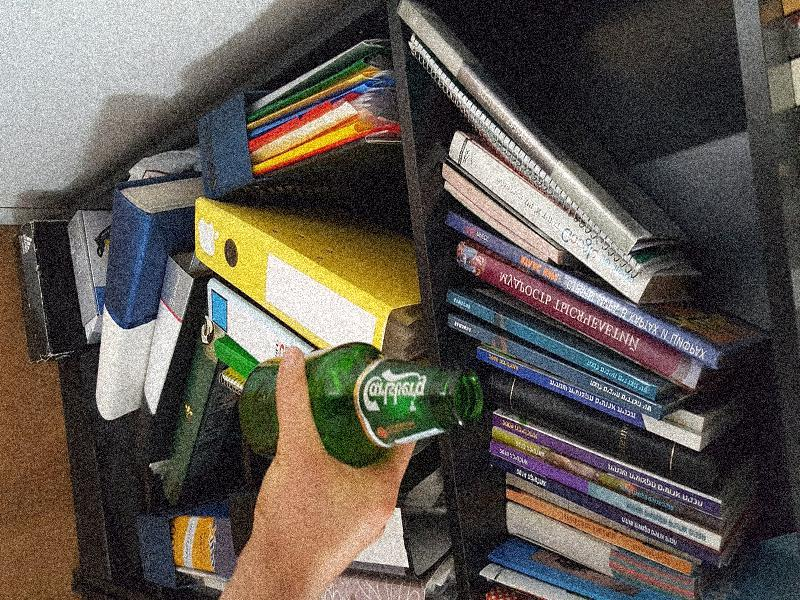Beer: (236, 344, 482, 462)
